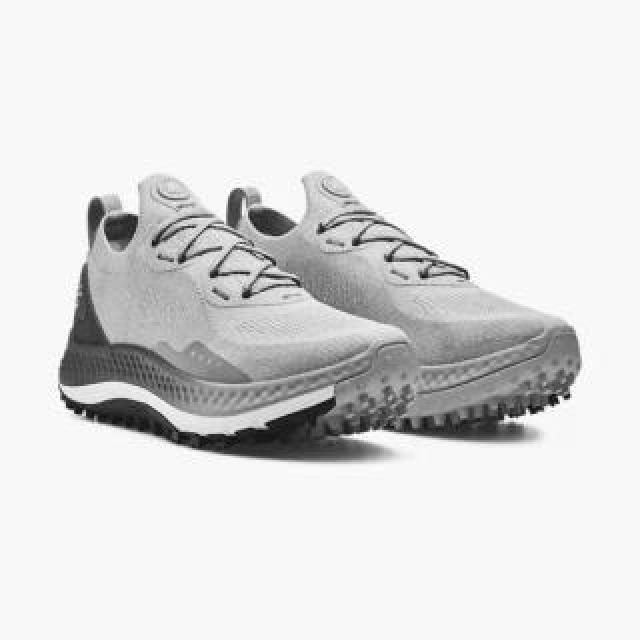shoe: (60, 173, 420, 449), (200, 172, 580, 432)
